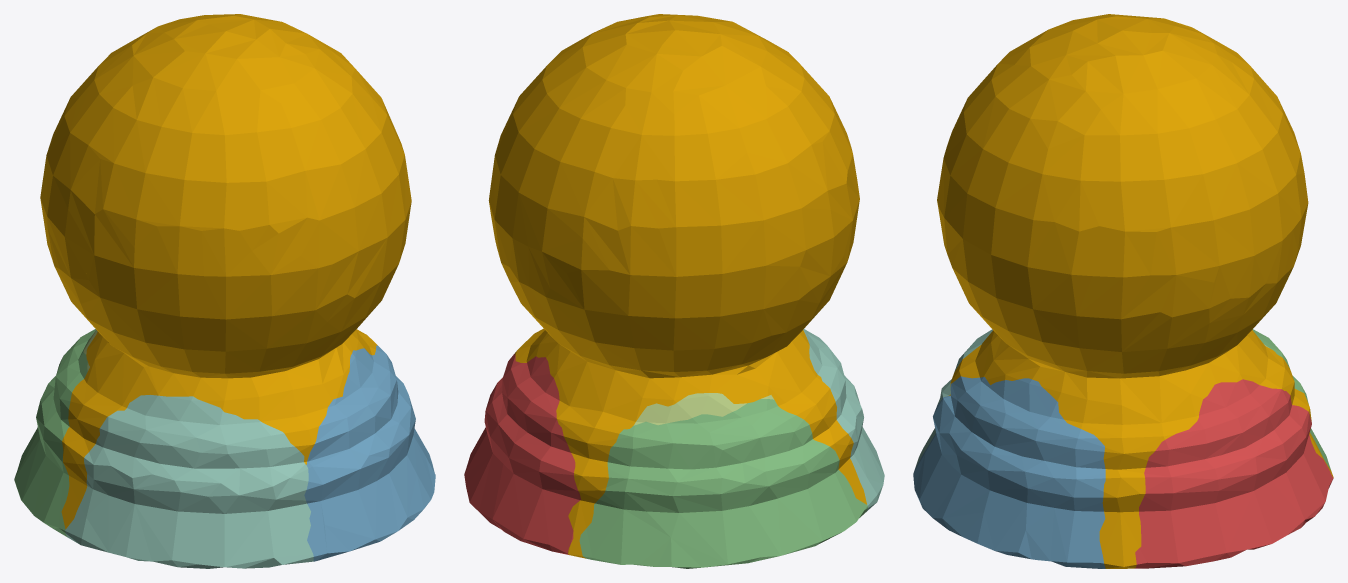
Rendered from mode_7_6pcs.glb.
3 renders of one model, left to right at view 1: azimuth 30°, elevation 25°; view 2: azimuth 150°, elevation 25°; view 3: azimuth 270°, elevation 25°, orthographic.
Parts seen in each view (by area): view 1: piece_0.obj, piece_4.obj, piece_2.obj, piece_3.obj; view 2: piece_0.obj, piece_3.obj, piece_1.obj, piece_4.obj, piece_5.obj; view 3: piece_0.obj, piece_2.obj, piece_1.obj, piece_4.obj, piece_3.obj.
Part boxes in pixels (left/top/right/bottom): piece_0.obj: left=40, top=14, right=411, bottom=528; piece_4.obj: left=65, top=395, right=313, bottom=568; piece_2.obj: left=304, top=345, right=435, bottom=561; piece_3.obj: left=14, top=329, right=95, bottom=536; piece_0.obj: left=488, top=14, right=866, bottom=558; piece_3.obj: left=579, top=399, right=867, bottom=568; piece_1.obj: left=464, top=353, right=581, bottom=555; piece_4.obj: left=803, top=329, right=884, bottom=511; piece_5.obj: left=633, top=393, right=773, bottom=425; piece_0.obj: left=937, top=14, right=1333, bottom=568; piece_2.obj: left=913, top=376, right=1105, bottom=568; piece_1.obj: left=1134, top=379, right=1333, bottom=568; piece_4.obj: left=915, top=329, right=992, bottom=467; piece_3.obj: left=1252, top=329, right=1330, bottom=469.
Size of the model in its own units: 0.8448 by 1 by 0.8424.
